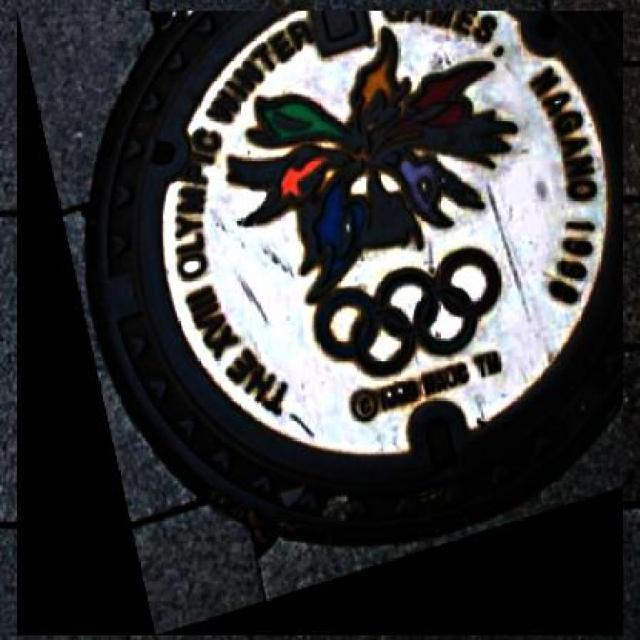Manhole: (18, 10, 624, 636)
